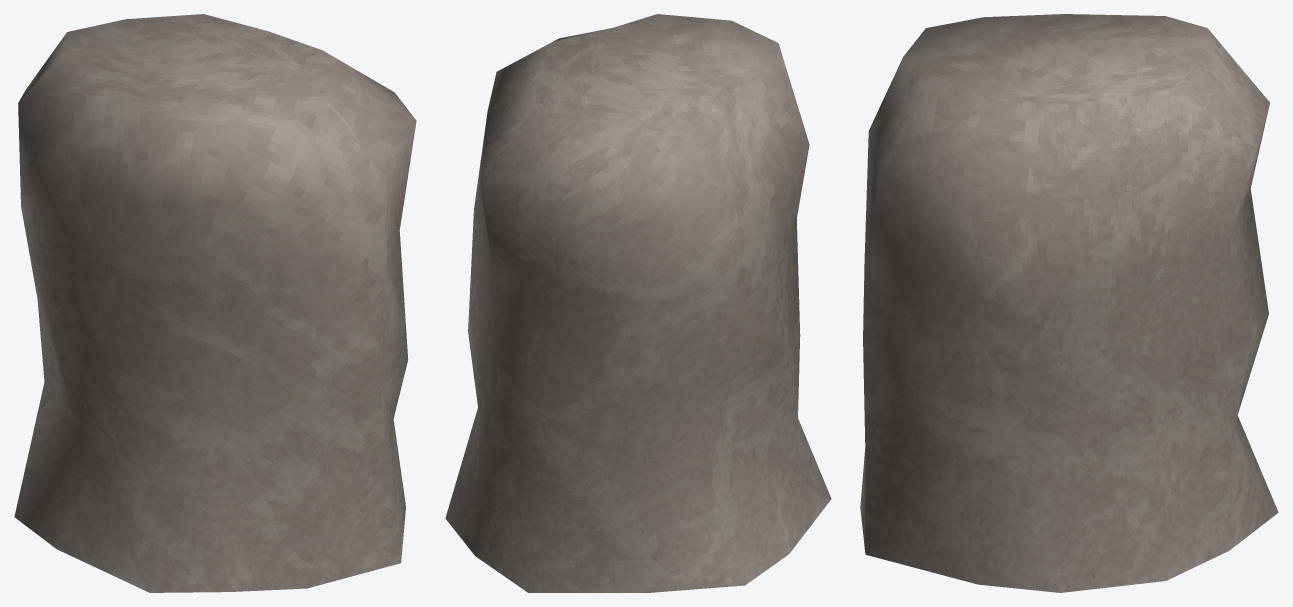
File: Boulder2.glb
3 renders of one model, left to right at view 1: azimuth 30°, elevation 25°; view 2: azimuth 150°, elevation 25°; view 3: azimuth 270°, elevation 25°, orthographic.
Visible parts, largest first — view 1: Boulder2; view 2: Boulder2; view 3: Boulder2.
Boxes of the visible parts, bbox=[...] form: Boulder2: bbox=[14, 14, 416, 592]; Boulder2: bbox=[445, 14, 831, 592]; Boulder2: bbox=[860, 14, 1278, 592].
Size of the model in its own units: 4.74 by 6.27 by 5.32.
Materials: 1 (1 with a texture image).
